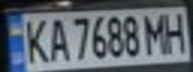6: (87, 12, 109, 60)
7: (69, 14, 90, 61)
8: (121, 12, 145, 57), (106, 12, 127, 59)
A: (42, 15, 69, 63)
H: (160, 8, 193, 54)
K: (18, 15, 51, 64)
M: (142, 10, 172, 56)
